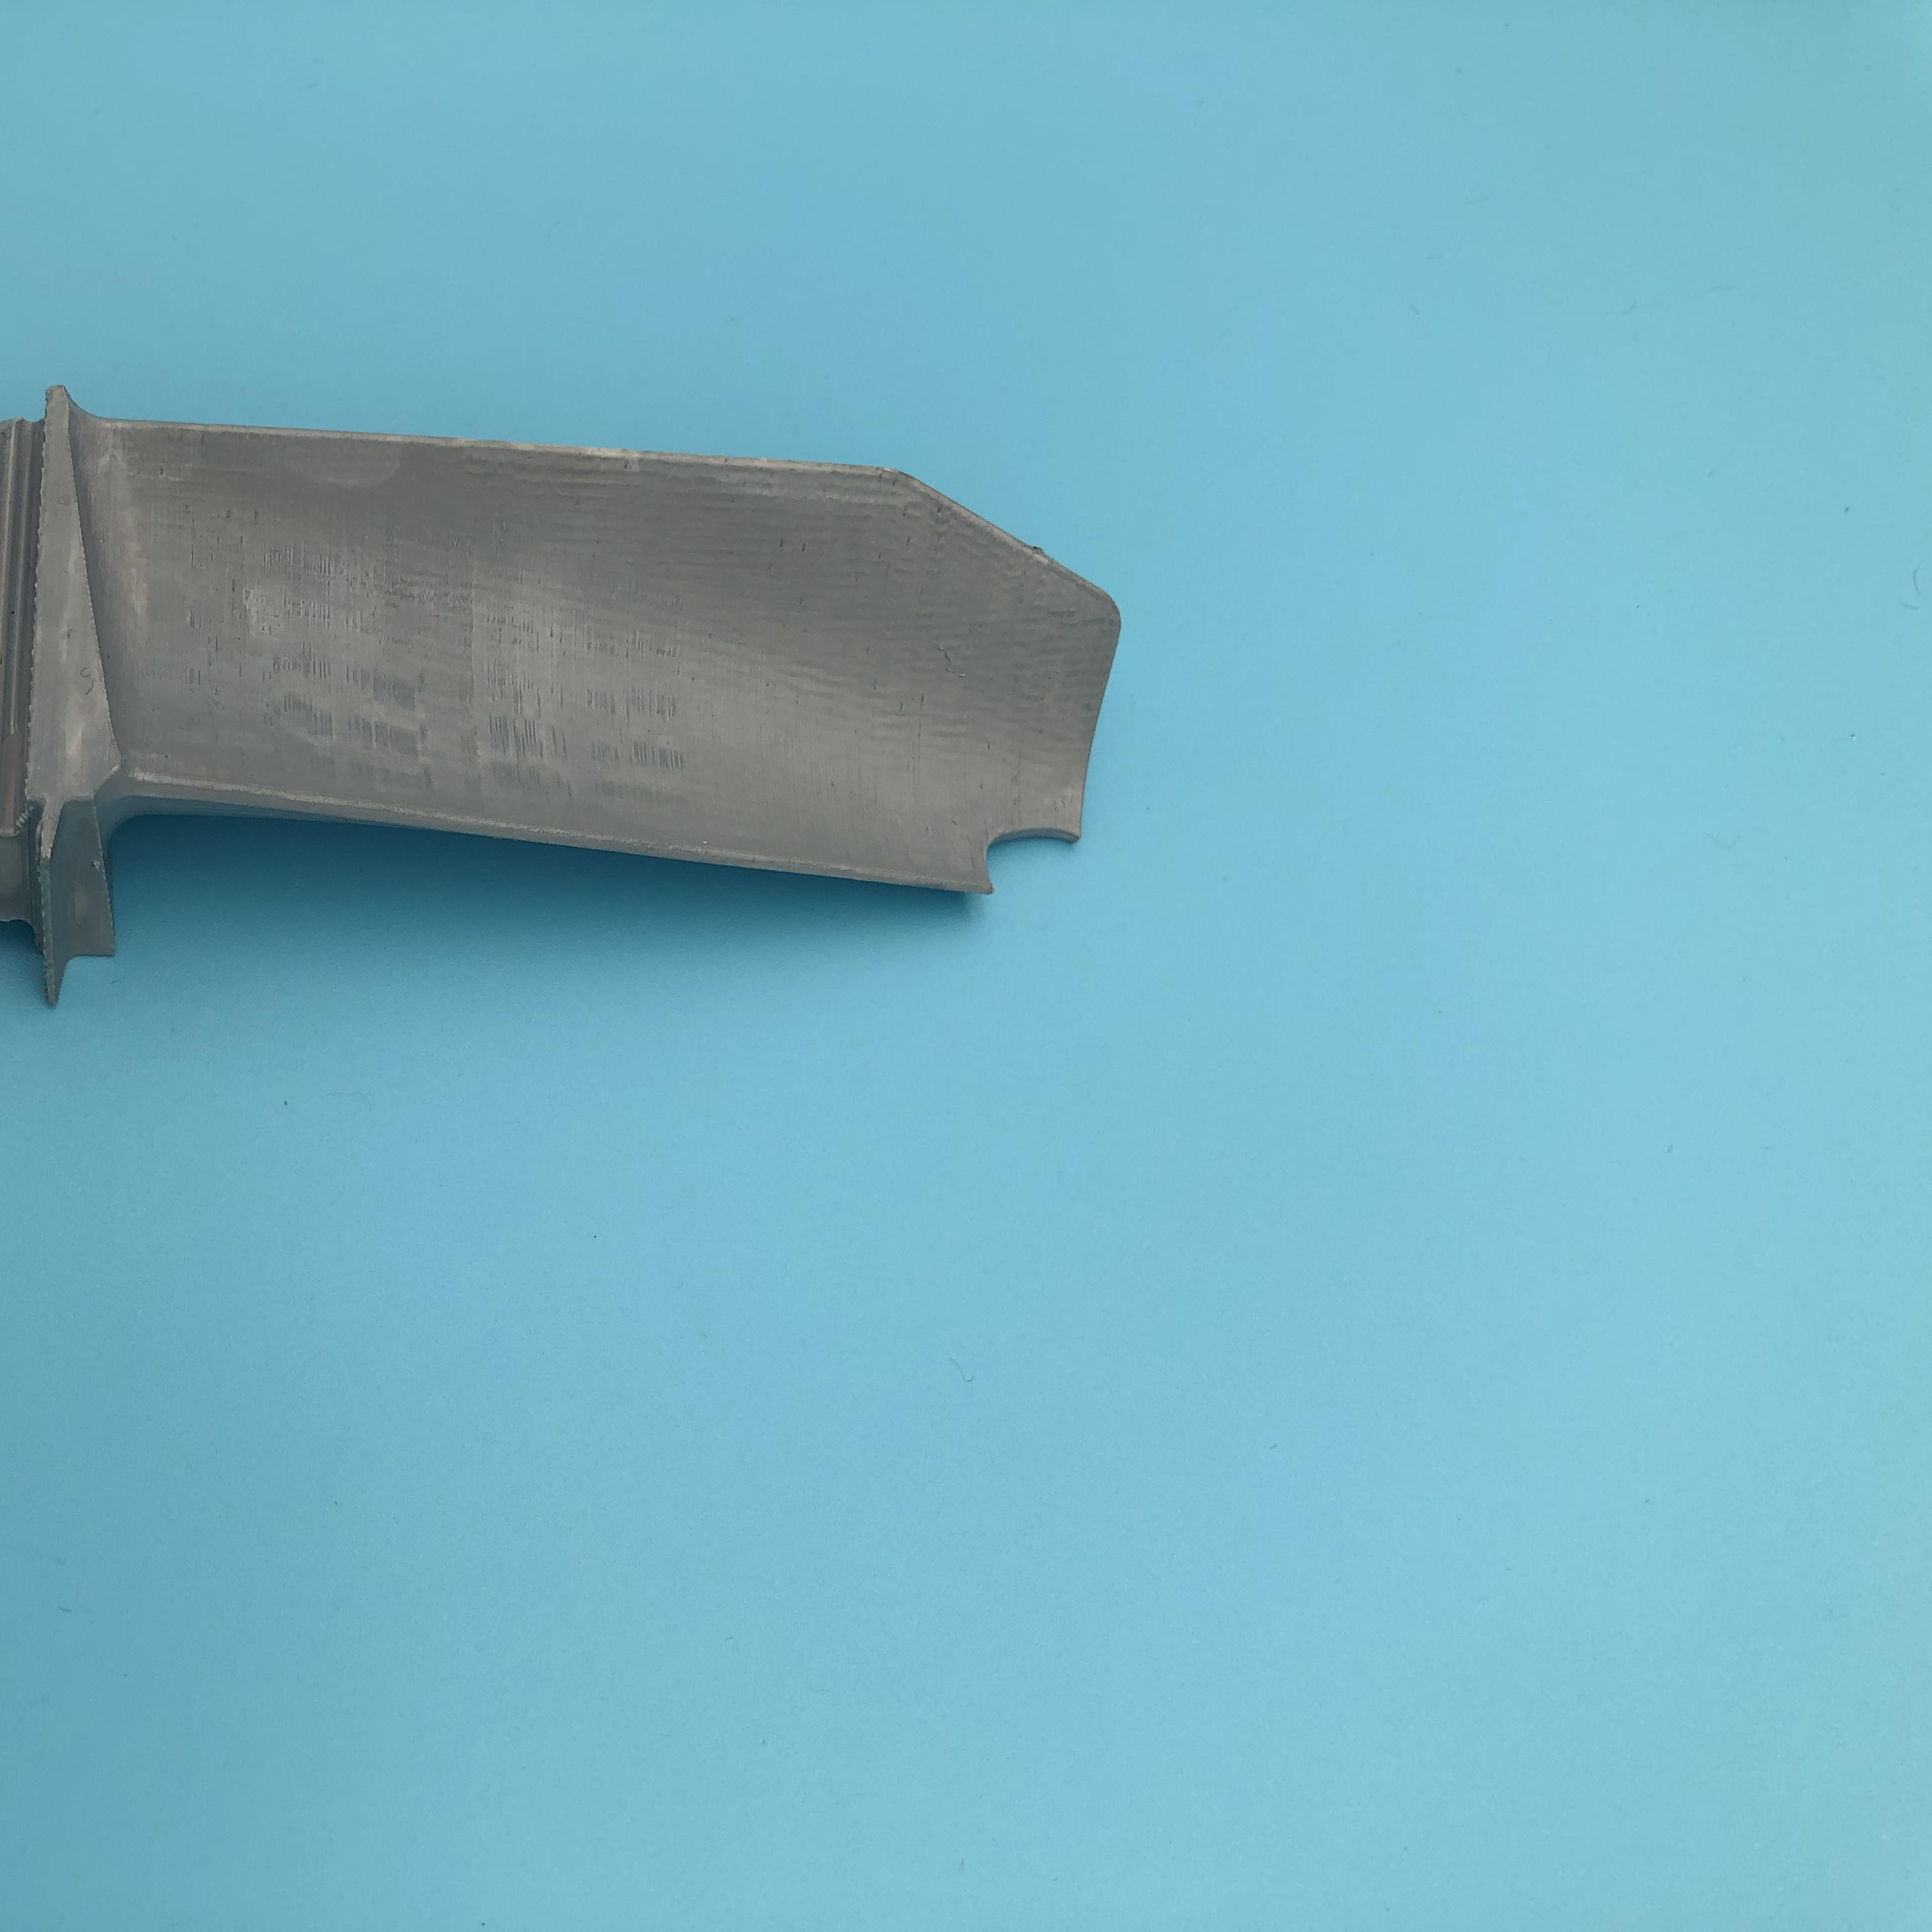fracture: (975, 817, 1083, 897)
